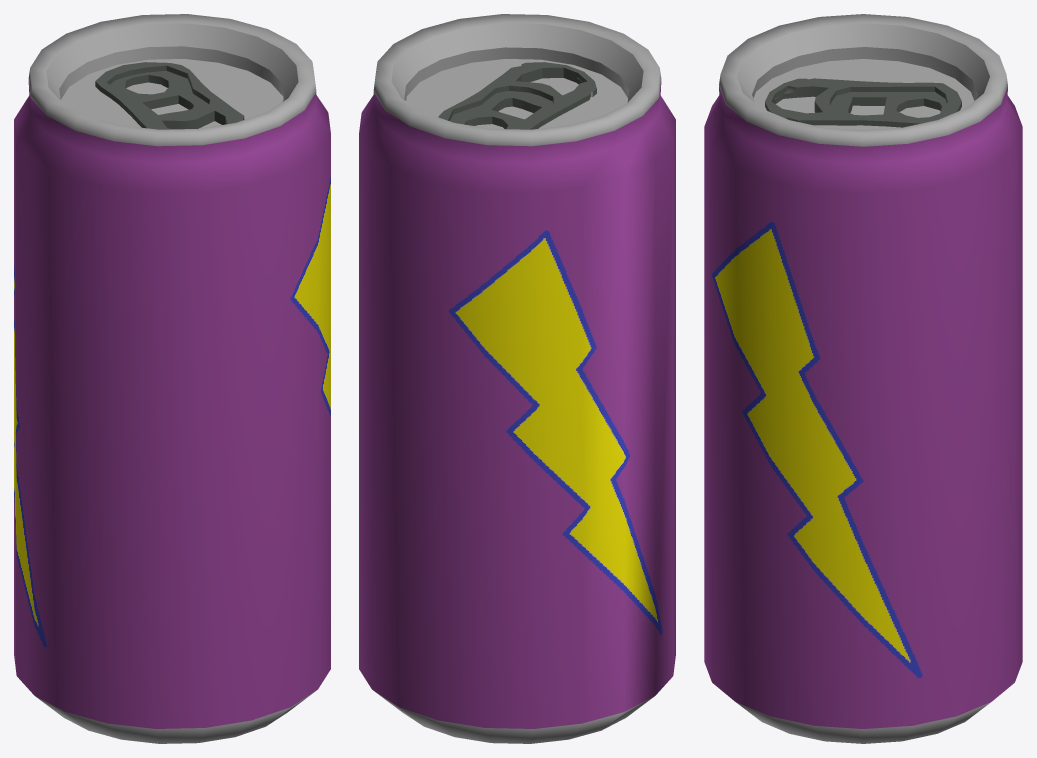
The model's file is energydrink.fbx.
3 renders of one model, left to right at view 1: azimuth 30°, elevation 25°; view 2: azimuth 150°, elevation 25°; view 3: azimuth 270°, elevation 25°, orthographic.
Visible parts, largest first — view 1: energydrink; view 2: energydrink; view 3: energydrink.
Boxes of the visible parts, x1=… form: energydrink: x1=14, y1=14, x2=330, y2=743; energydrink: x1=359, y1=14, x2=675, y2=743; energydrink: x1=704, y1=14, x2=1022, y2=743.
Size of the model in its own units: 253 by 540 by 253.
